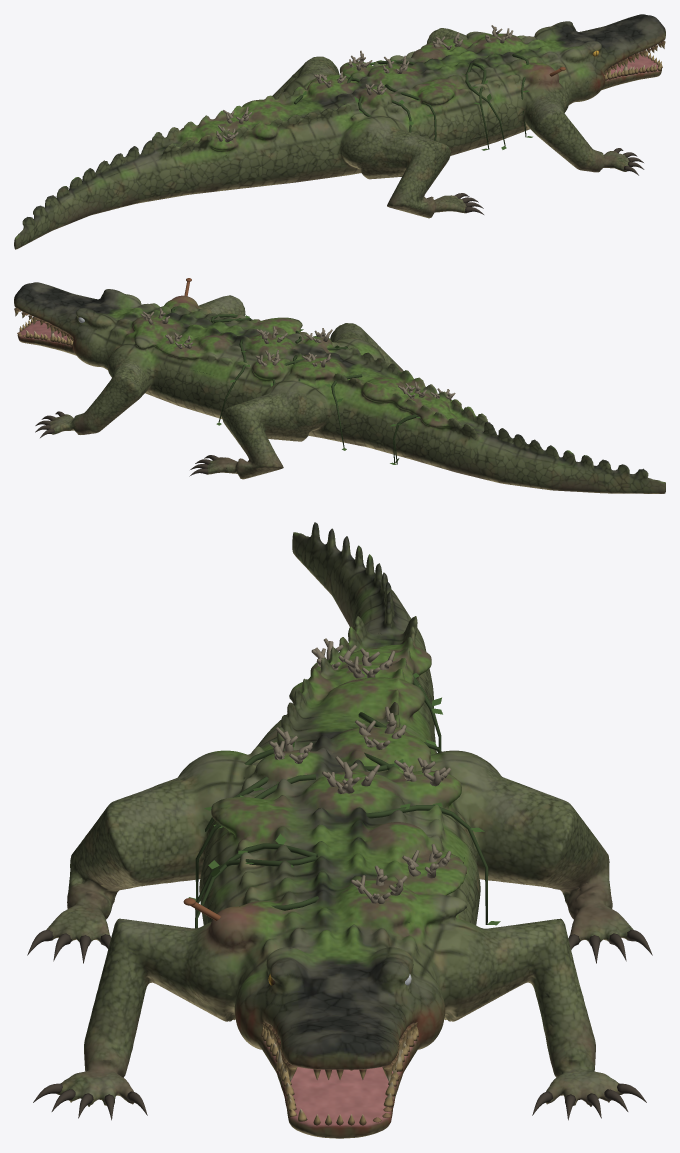
The model's file is SM_Boss_JawOfTheMire.gltf.
The picture shows the model from 3 angles, top to bottom: view 1: azimuth 30°, elevation 25°; view 2: azimuth 150°, elevation 25°; view 3: azimuth 270°, elevation 25°; orthographic projection. The views are drawn at different scales.
Parts seen in each view (by area): view 1: SM_Boss_JawOfTheMire; view 2: SM_Boss_JawOfTheMire; view 3: SM_Boss_JawOfTheMire.
Part boxes in pixels (left/top/right/bottom): SM_Boss_JawOfTheMire: left=14, top=14, right=665, bottom=249; SM_Boss_JawOfTheMire: left=14, top=278, right=665, bottom=493; SM_Boss_JawOfTheMire: left=27, top=522, right=652, bottom=1138.
Bounding box in the file's own units: 14.08 × 2.04 × 6.02.
Materials: 10 (4 with a texture image).
